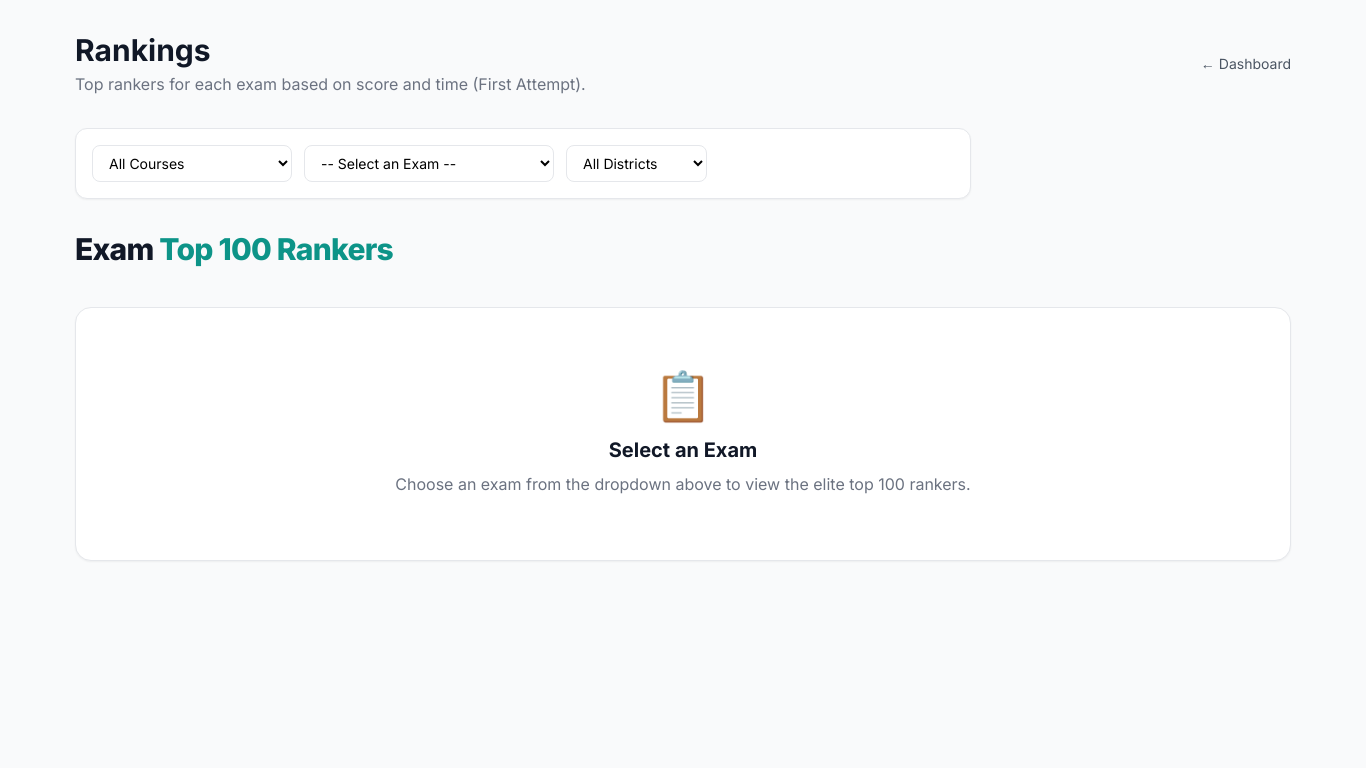
Test case: Rankings page › marks the current user on the podium
Select "Physics Paper 1" in the 2nd dropdown at point(429, 164), box [304,145,554,182]
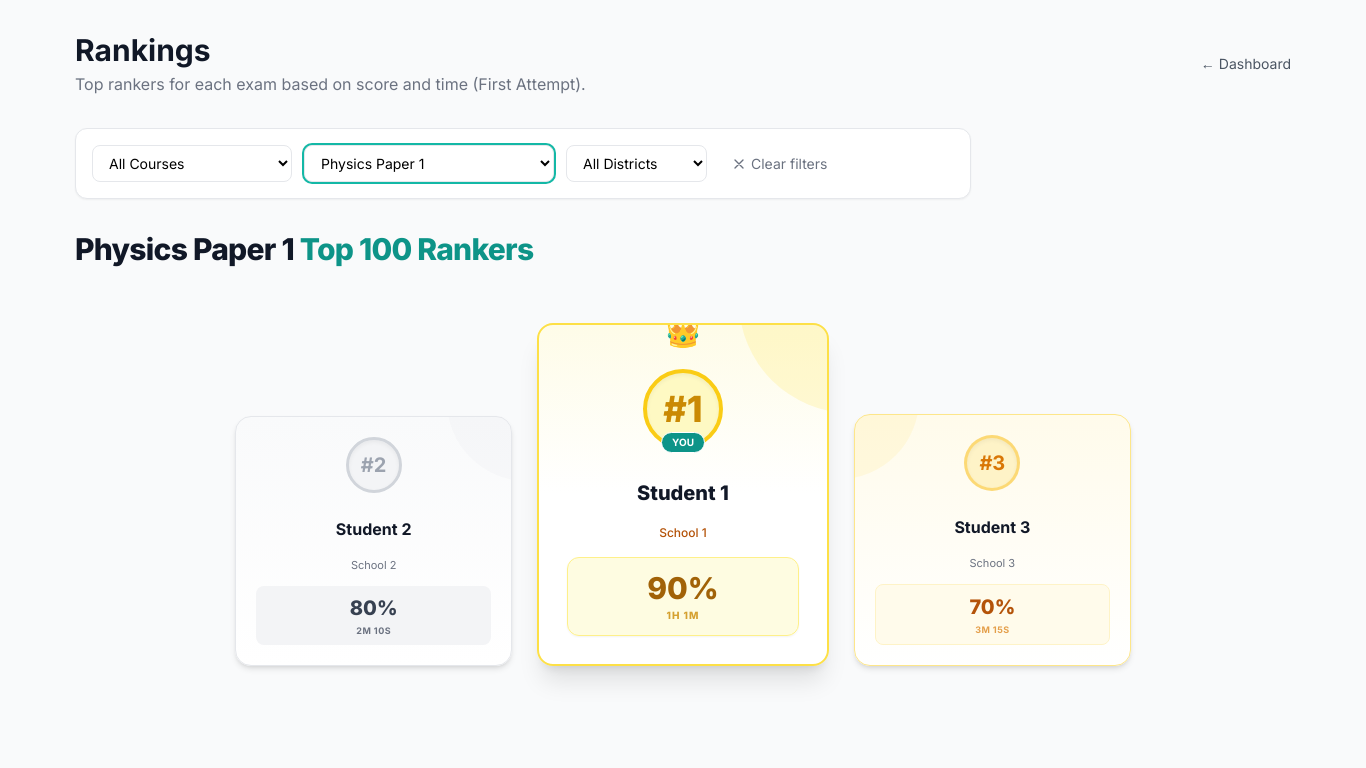
Result: the text "You" is shown at [661,432,705,453]
Result: the text "1h 1m" is shown at [666,609,699,621]
